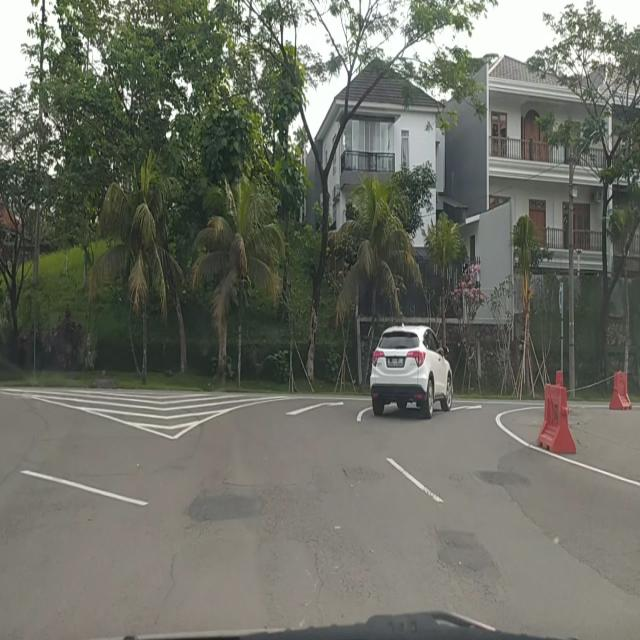Drain Hole: (256, 486, 382, 598)
